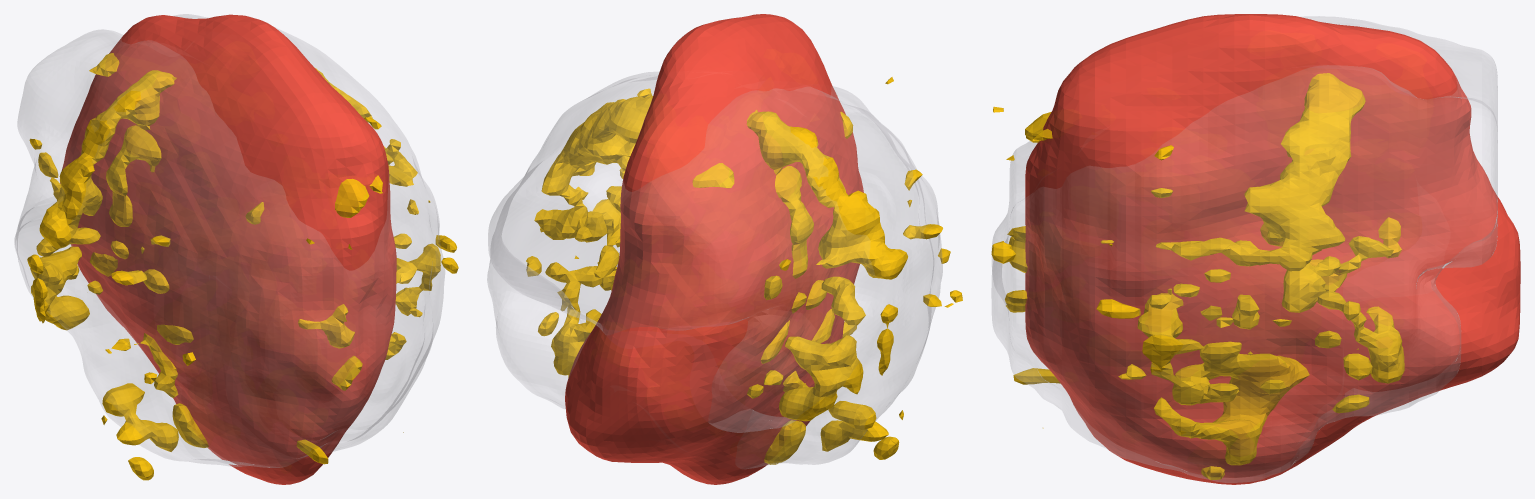
File: case_30.gltf
3 views of the same model, side by side, from view 1: azimuth 30°, elevation 25°; view 2: azimuth 150°, elevation 25°; view 3: azimuth 270°, elevation 25° (orthographic). The views are drawn at different scales.
Visible parts, largest first — view 1: brain, stroke, penumbra; view 2: brain, stroke, penumbra; view 3: brain, stroke, penumbra.
Boxes of the visible parts, x1,y1,x2,y2 form: brain: [14, 14, 444, 467]; stroke: [60, 14, 396, 484]; penumbra: [27, 53, 458, 480]; brain: [487, 72, 942, 468]; stroke: [565, 14, 863, 484]; penumbra: [526, 77, 962, 464]; brain: [991, 16, 1497, 482]; stroke: [1025, 14, 1520, 484]; penumbra: [991, 73, 1404, 480].
Size of the model in its own units: 1.72 by 1.97 by 2.
